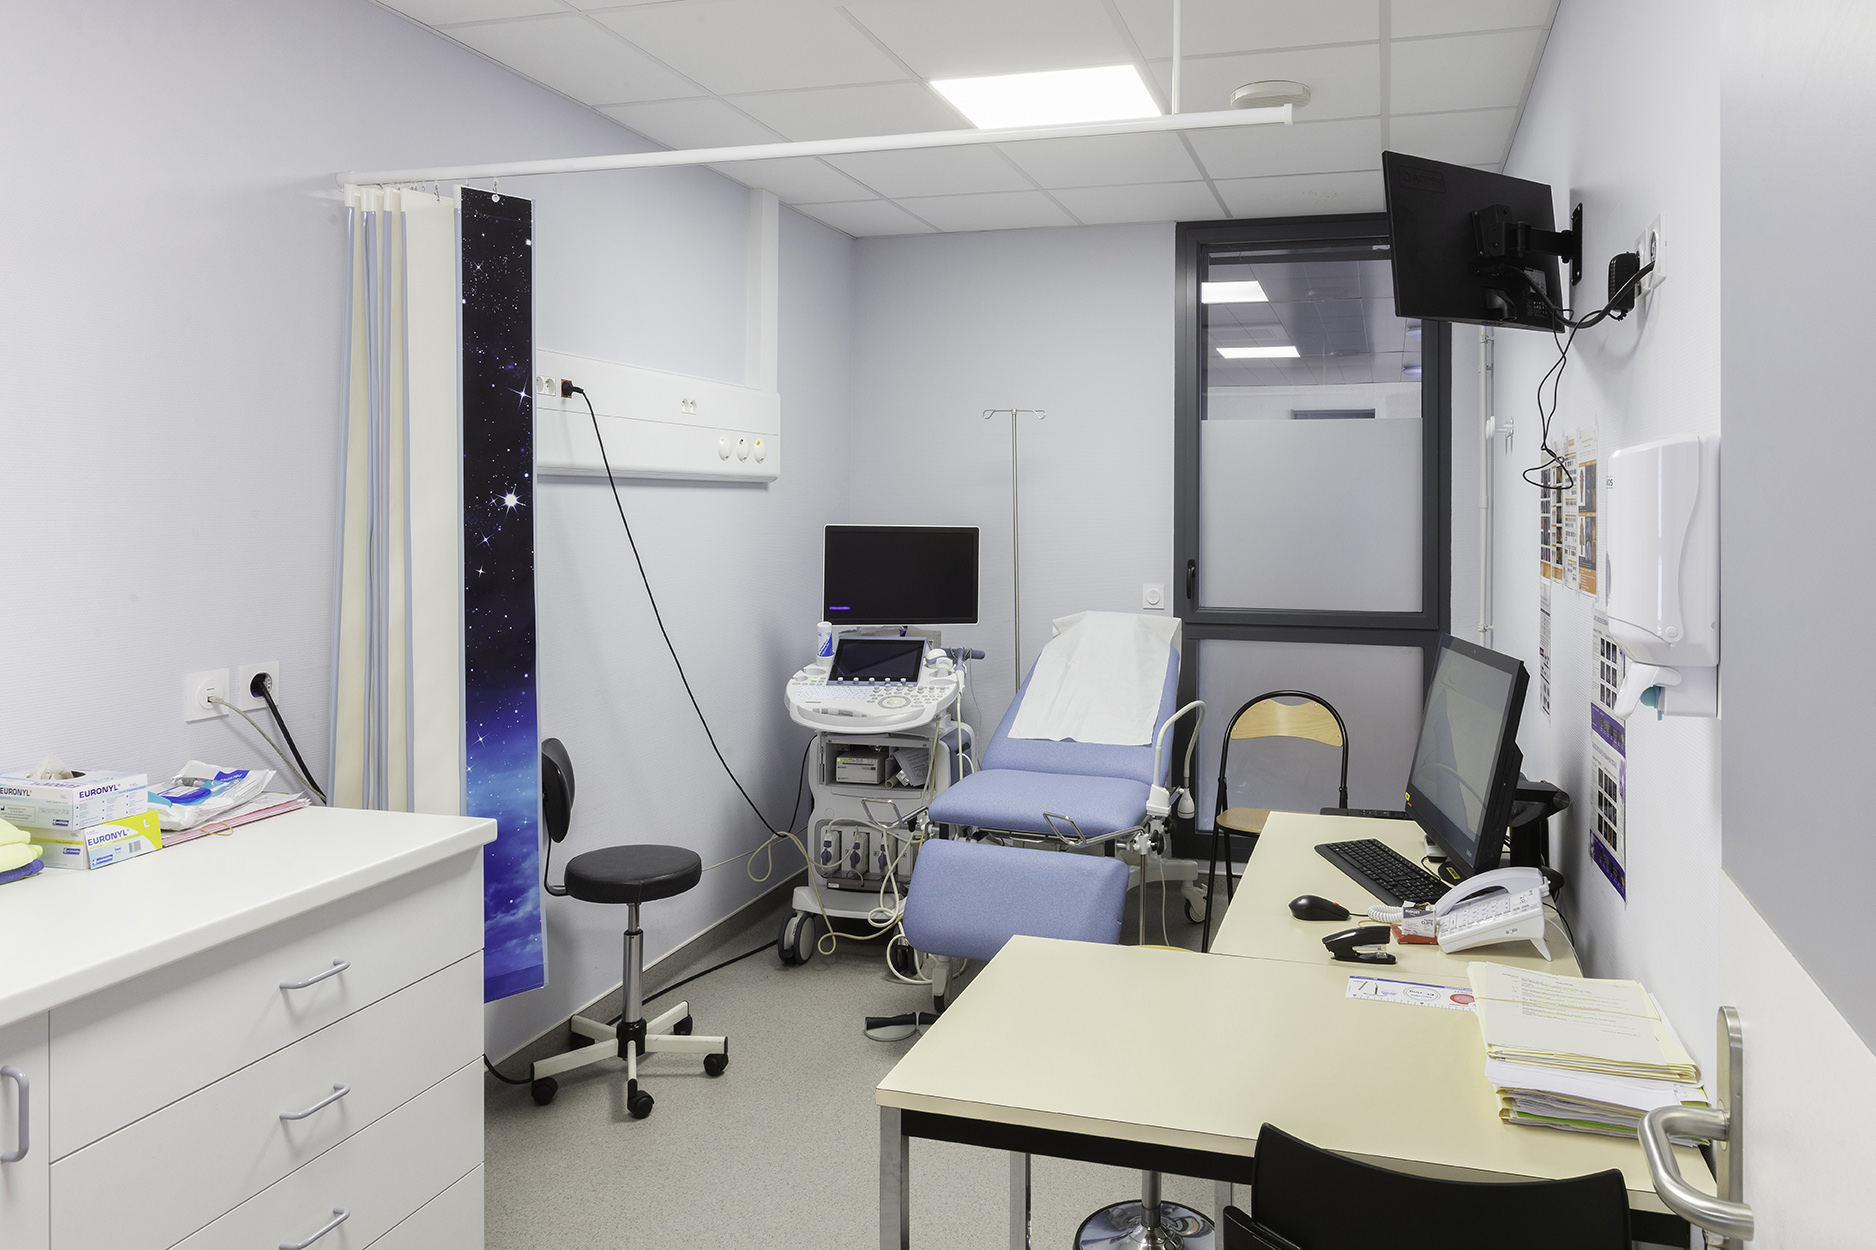TV: (1381, 151, 1564, 333)
bedside_monitor: (823, 525, 979, 625), (835, 635, 916, 693)
chair: (529, 738, 729, 1119), (1223, 1122, 1632, 1250), (1073, 944, 1216, 1250), (1202, 691, 1349, 954)
computer: (1403, 632, 1571, 894)
counter: (1, 784, 498, 1250)
countertop: (3, 788, 497, 1016)
curtain: (332, 184, 550, 1007)
dispenser: (1605, 435, 1720, 720)
door_handle: (1637, 1006, 1755, 1250), (1187, 559, 1195, 601)
exam_table: (902, 612, 1205, 1013)
handle: (273, 1210, 351, 1250), (279, 1087, 354, 1120), (1, 1069, 27, 1164), (279, 963, 354, 992)
iv_pole: (983, 407, 1046, 695)
keyboard: (1314, 838, 1453, 905)
mouse: (1287, 896, 1350, 919)
table: (870, 931, 1717, 1250)
telephone: (1368, 869, 1552, 964)
